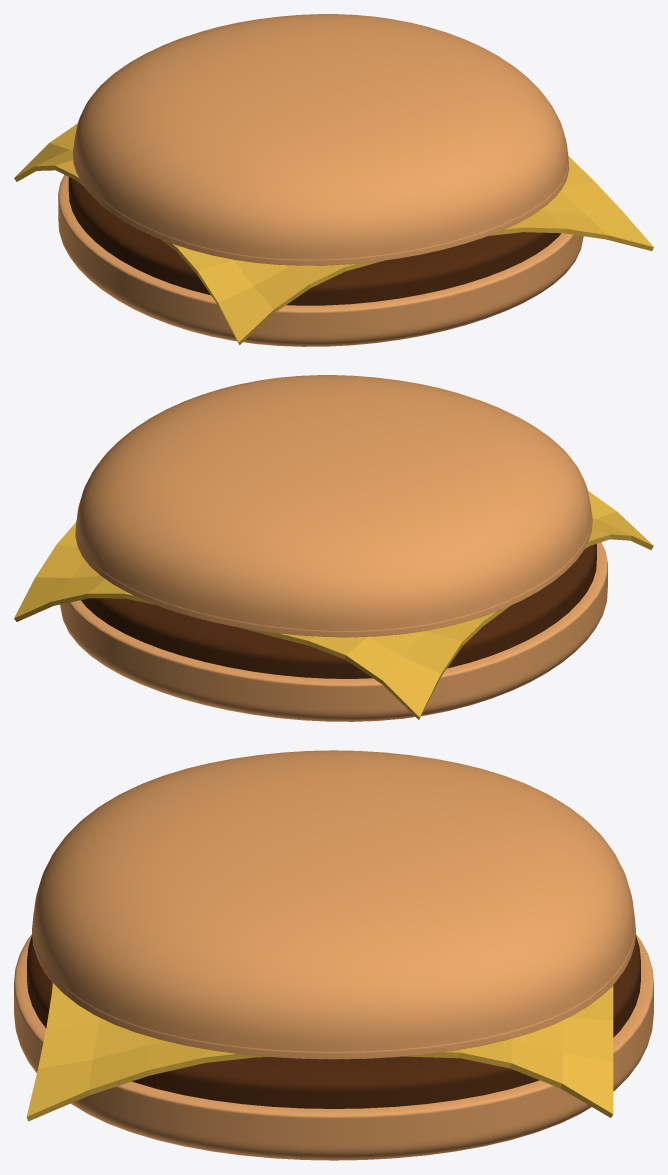
Rendered from hamburger.glb.
3 renders of one model, top to bottom at view 1: azimuth 30°, elevation 25°; view 2: azimuth 150°, elevation 25°; view 3: azimuth 270°, elevation 25°, orthographic. The views are drawn at different scales.
Parts seen in each view (by area): view 1: TopBun, BottomBun, Meat, Cheese; view 2: TopBun, BottomBun, Meat, Cheese; view 3: TopBun, BottomBun, Cheese, Meat.
Boxes of the visible parts, x1=… form: TopBun: x1=73, y1=14, x2=569, y2=265; BottomBun: x1=58, y1=175, x2=583, y2=346; Meat: x1=68, y1=177, x2=560, y2=305; Cheese: x1=14, y1=123, x2=653, y2=344; TopBun: x1=75, y1=375, x2=592, y2=637; BottomBun: x1=60, y1=542, x2=607, y2=721; Meat: x1=81, y1=544, x2=596, y2=678; Cheese: x1=14, y1=491, x2=653, y2=719; TopBun: x1=32, y1=750, x2=635, y2=1059; BottomBun: x1=14, y1=934, x2=653, y2=1160; Cheese: x1=26, y1=983, x2=613, y2=1121; Meat: x1=27, y1=935, x2=640, y2=1108.
Size of the model in its own units: 9.16 by 3.64 by 9.16.
